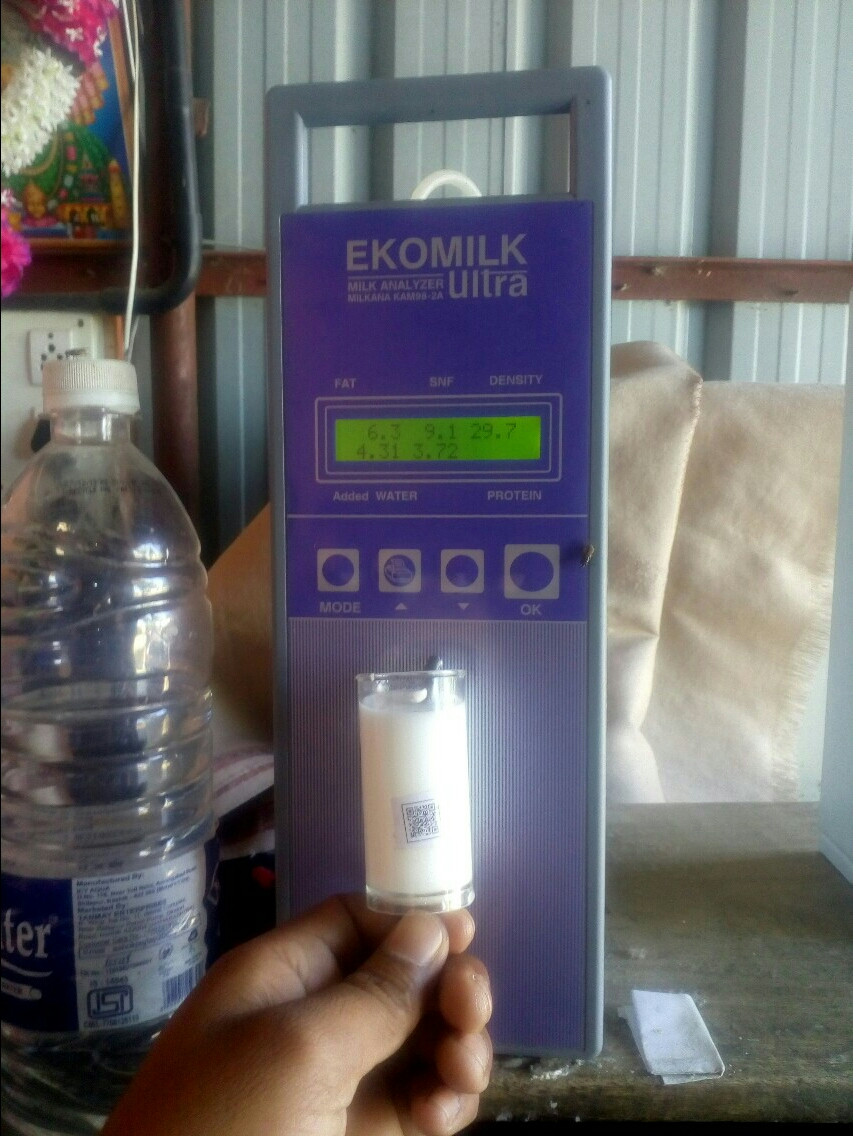lcd: (313, 411, 560, 473)
qr: (384, 792, 458, 845)
